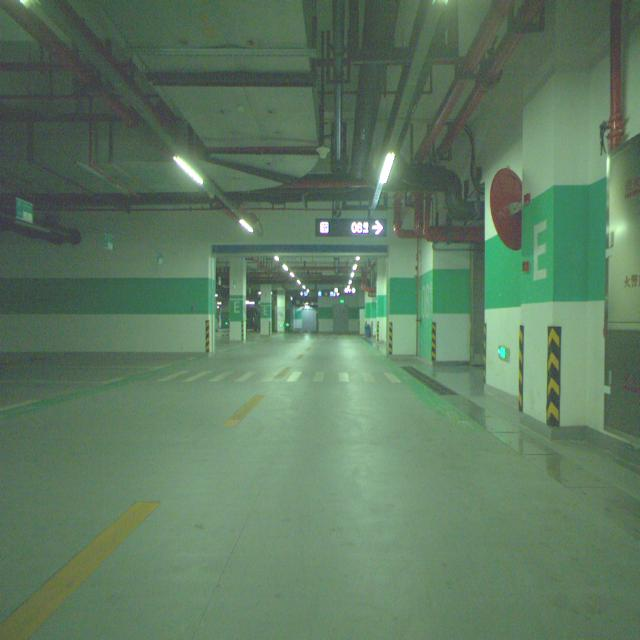pillar: (230, 256, 246, 340)
wall: (519, 83, 586, 440)
